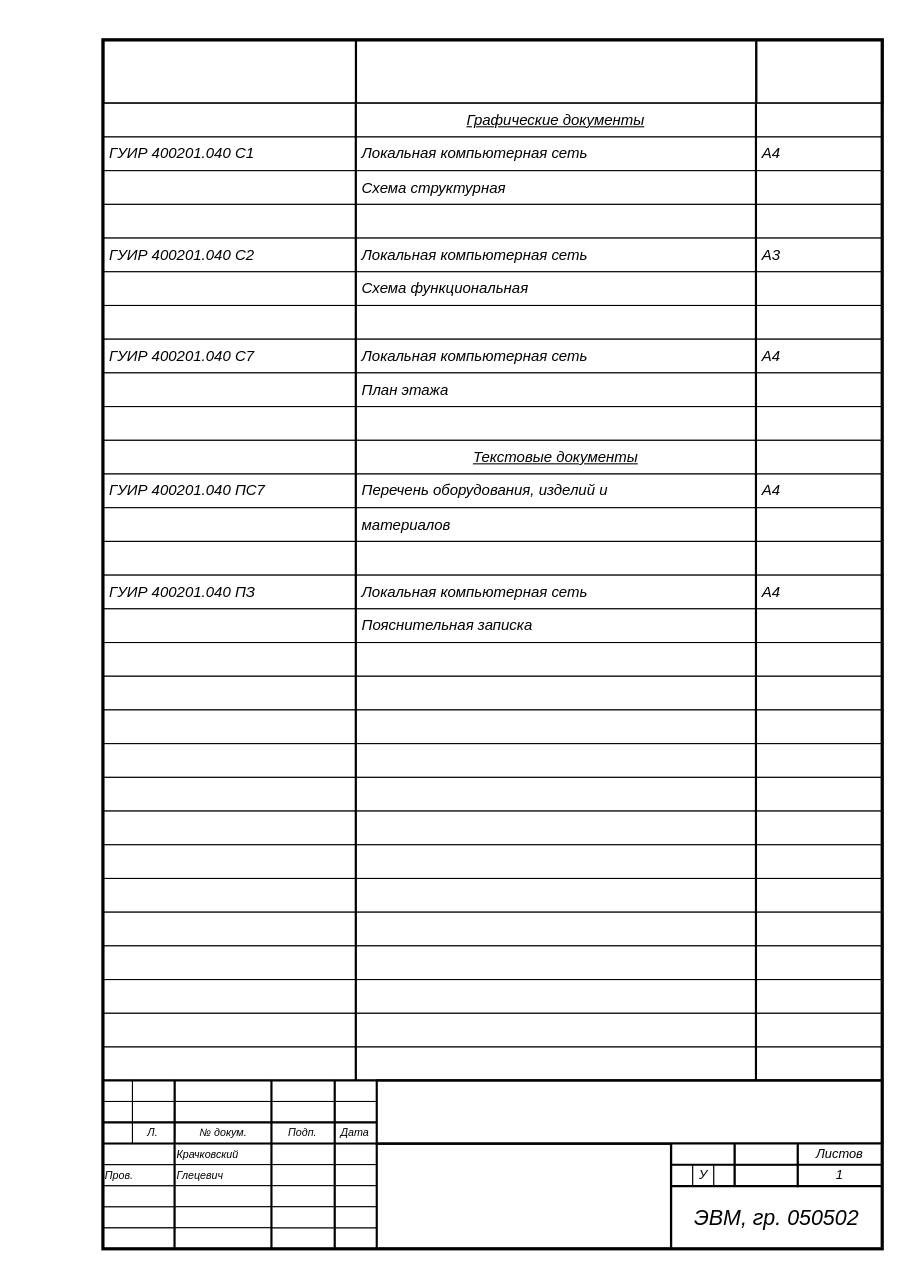
This 921x1288 diagram has some shape labels left out. The shapes that lost their labels are listed below. From the top down, each one's centre as x and y in pixels, then its label:
the point at 229,71: Обозначение
the point at 555,71: Наименование
the point at 819,71: Примечание
the point at 629,1111: ГУИР КП 1-400201.040 Д 1
the point at 117,1132: Изм.
the point at 138,1153: Разраб.
the point at 703,1153: Лит.
the point at 766,1153: Лист.
the point at 523,1195: Локальная компьютерная сеть. Ведомость документов.
